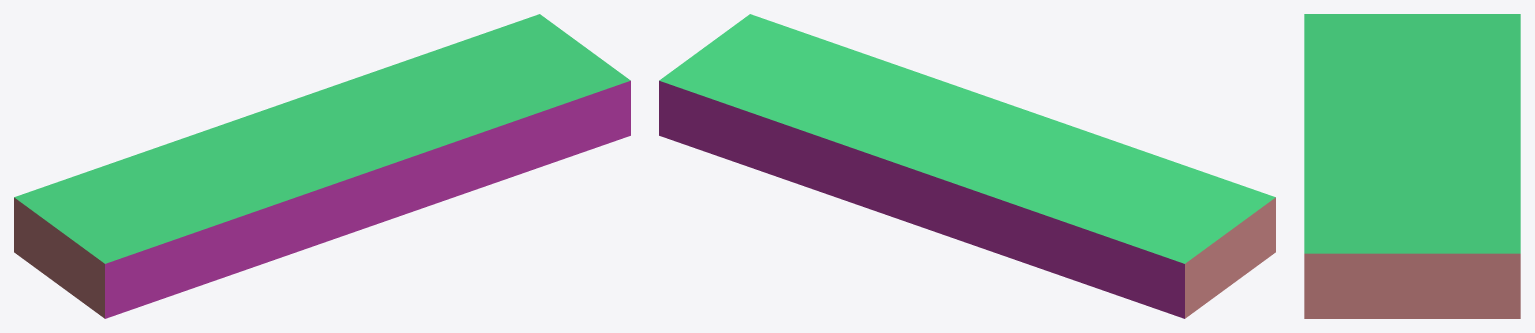
Rendered from floor r1.FBX.
3 views of the same model, side by side, from view 1: azimuth 30°, elevation 25°; view 2: azimuth 150°, elevation 25°; view 3: azimuth 270°, elevation 25° (orthographic). The views are drawn at different scales.
Parts seen in each view (by area): view 1: floor r1; view 2: floor r1; view 3: floor r1.
Part boxes in pixels (box(x1,y1,x2,y2)): floor r1: box(14, 14, 630, 318); floor r1: box(659, 14, 1275, 318); floor r1: box(1304, 14, 1520, 318).
Size of the model in its own units: 0.508 by 0.1016 by 0.1524.
